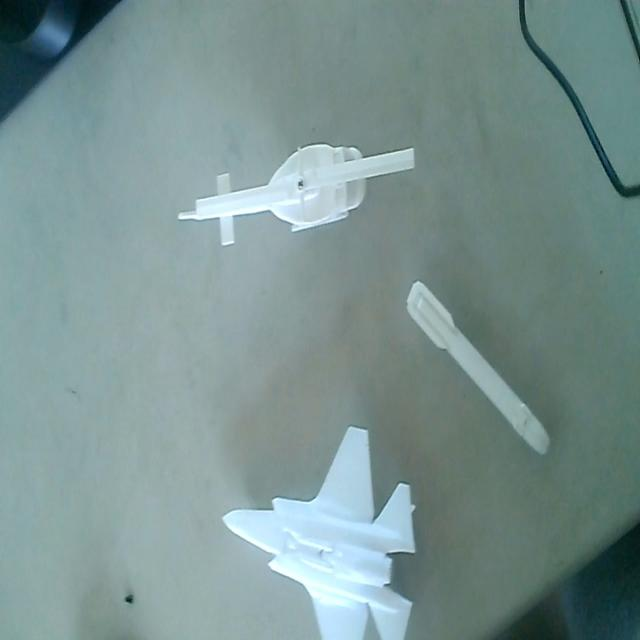Helicopter: (177, 136, 417, 252)
Jet: (217, 426, 416, 640)
Rocket: (402, 275, 552, 458)
